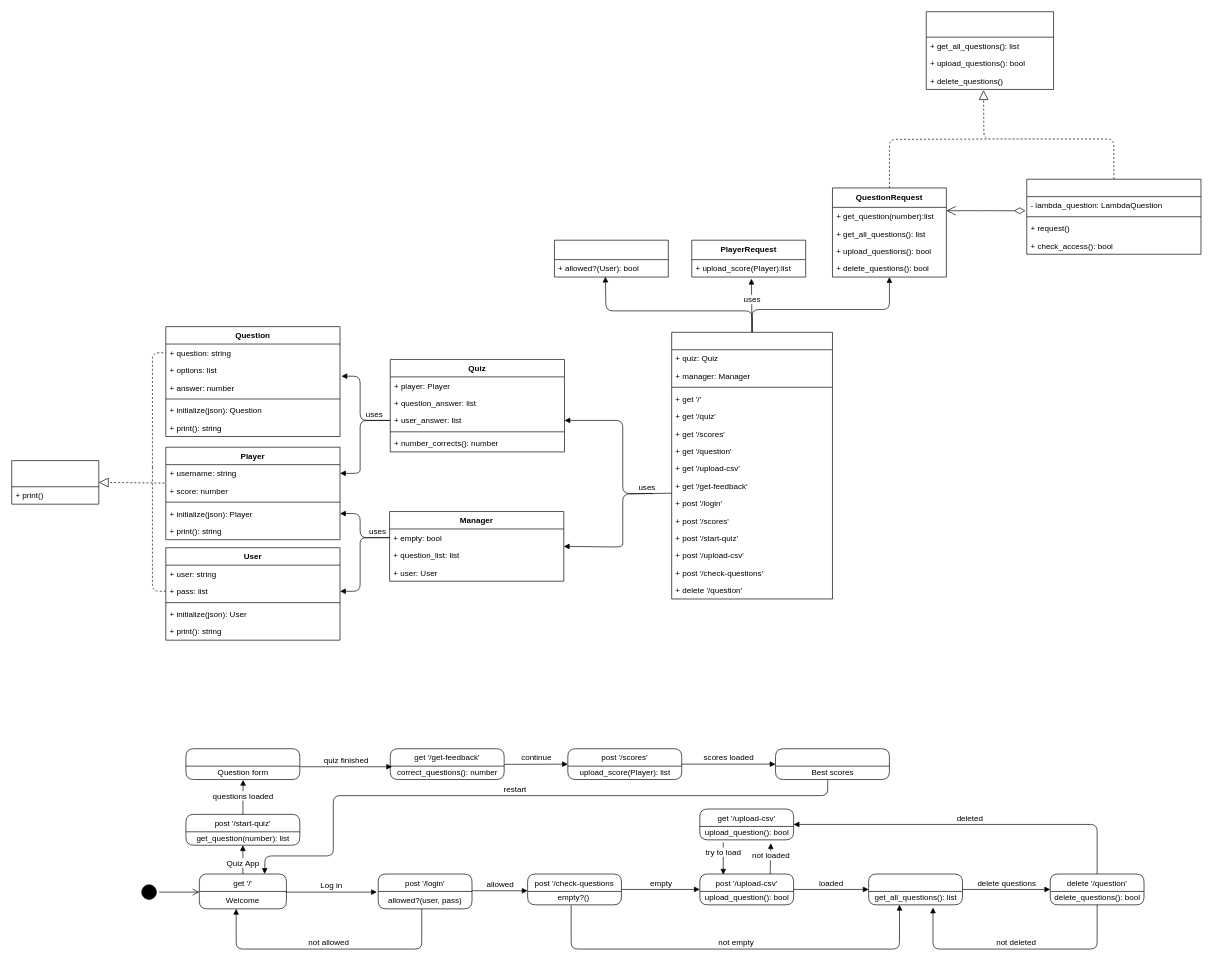
This 1213x966 diagram has some shape labels left out. The box of each missing label's shape, as (x1, y1, x2, y2) in pixels:
Application: (671, 332, 832, 599)
get '/question': (868, 873, 962, 905)
get '/quiz': (185, 748, 300, 780)
get '/scores': (775, 748, 889, 780)
ProxyLambda: (1026, 179, 1201, 254)
UserRequests: (554, 240, 668, 277)
«interface» LambdaQuestion: (926, 11, 1054, 89)
«interface» Print: (11, 460, 99, 504)
